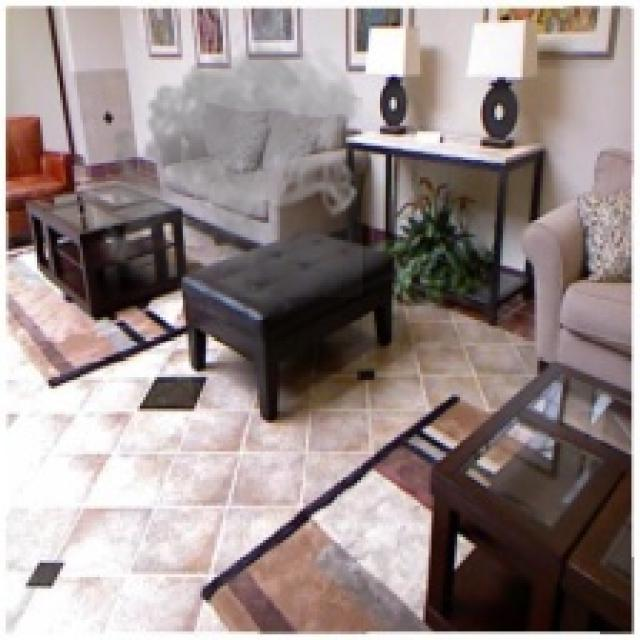smoke: (94, 23, 366, 297)
